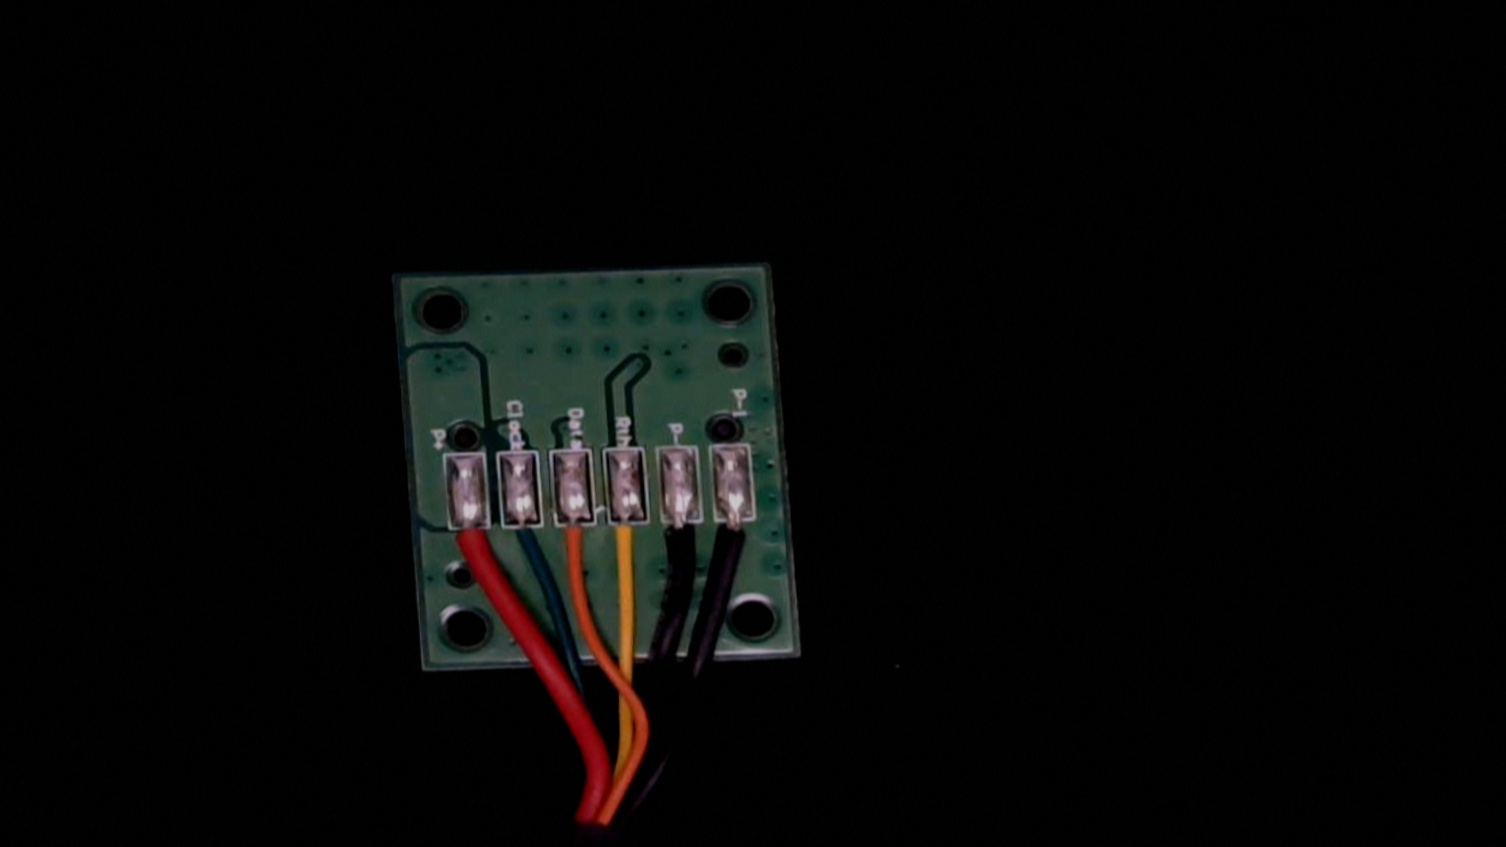Black: (662, 502, 705, 585)
Black1: (715, 504, 755, 573)
Green: (502, 504, 552, 588)
Orange: (555, 503, 603, 589)
Red: (448, 508, 499, 592)
Yellow: (609, 502, 652, 585)
